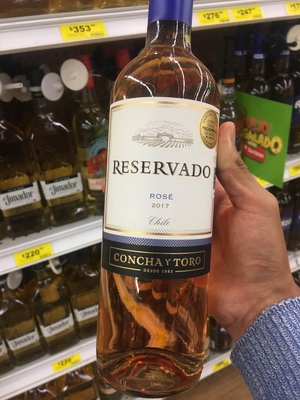reservado rose: (103, 4, 225, 390)
